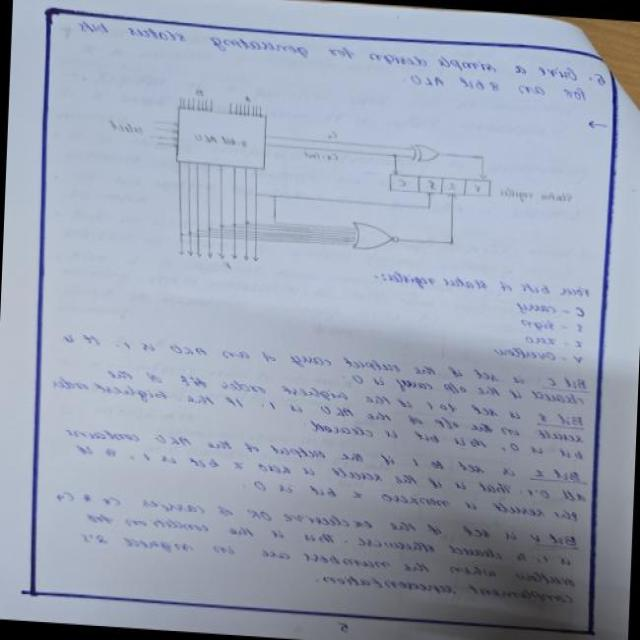Figure Detection - v3 Dataset Version2: (90, 73, 580, 301)
